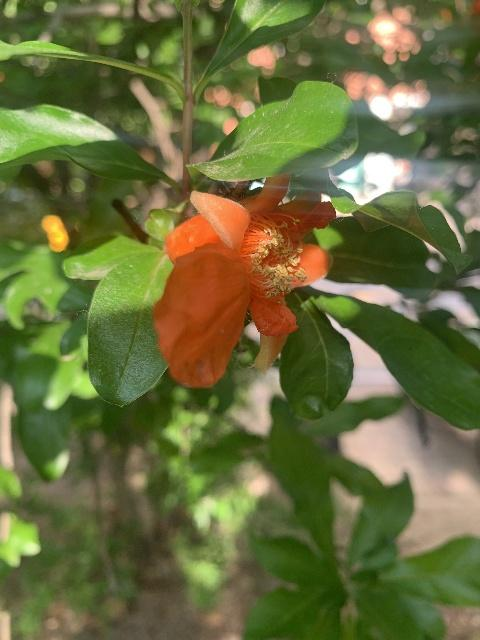flower: (152, 173, 337, 388)
